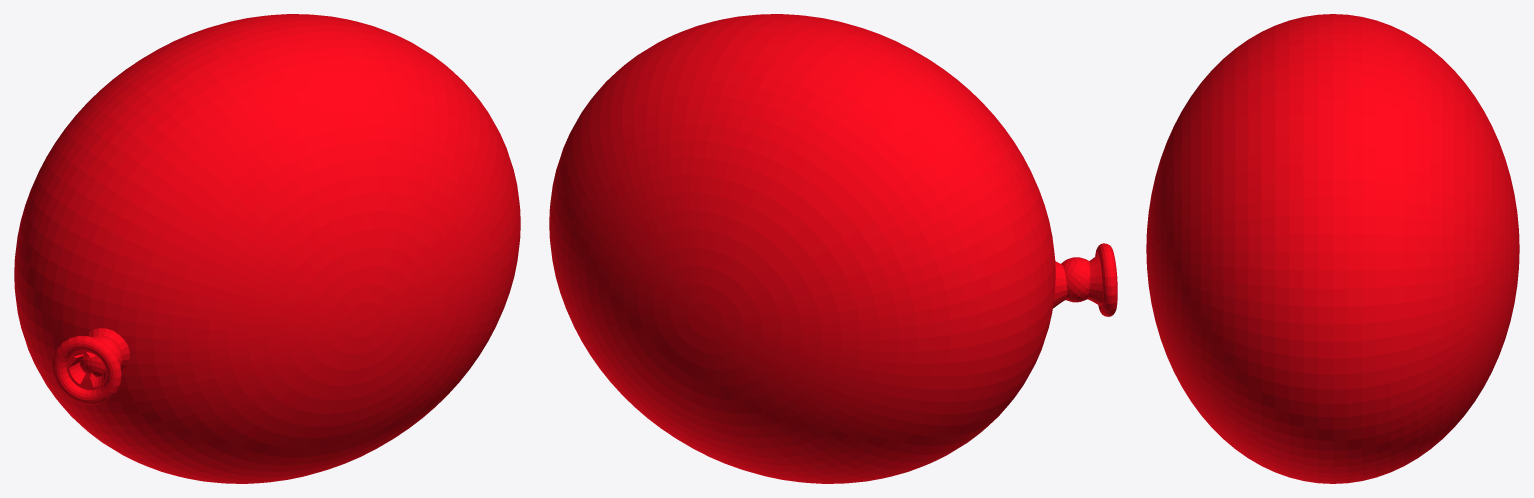
File: tinker.obj
3 views of the same model, side by side, from view 1: azimuth 30°, elevation 25°; view 2: azimuth 150°, elevation 25°; view 3: azimuth 270°, elevation 25° (orthographic). The views are drawn at different scales.
Visible parts, largest first — view 1: obj_0; view 2: obj_0; view 3: obj_0.
Part boxes in pixels (<box>): obj_0: <box>14,14,520,483</box>; obj_0: <box>549,14,1117,483</box>; obj_0: <box>1146,14,1519,483</box>.
Bounding box in the file's own units: 315 × 262 × 213.
